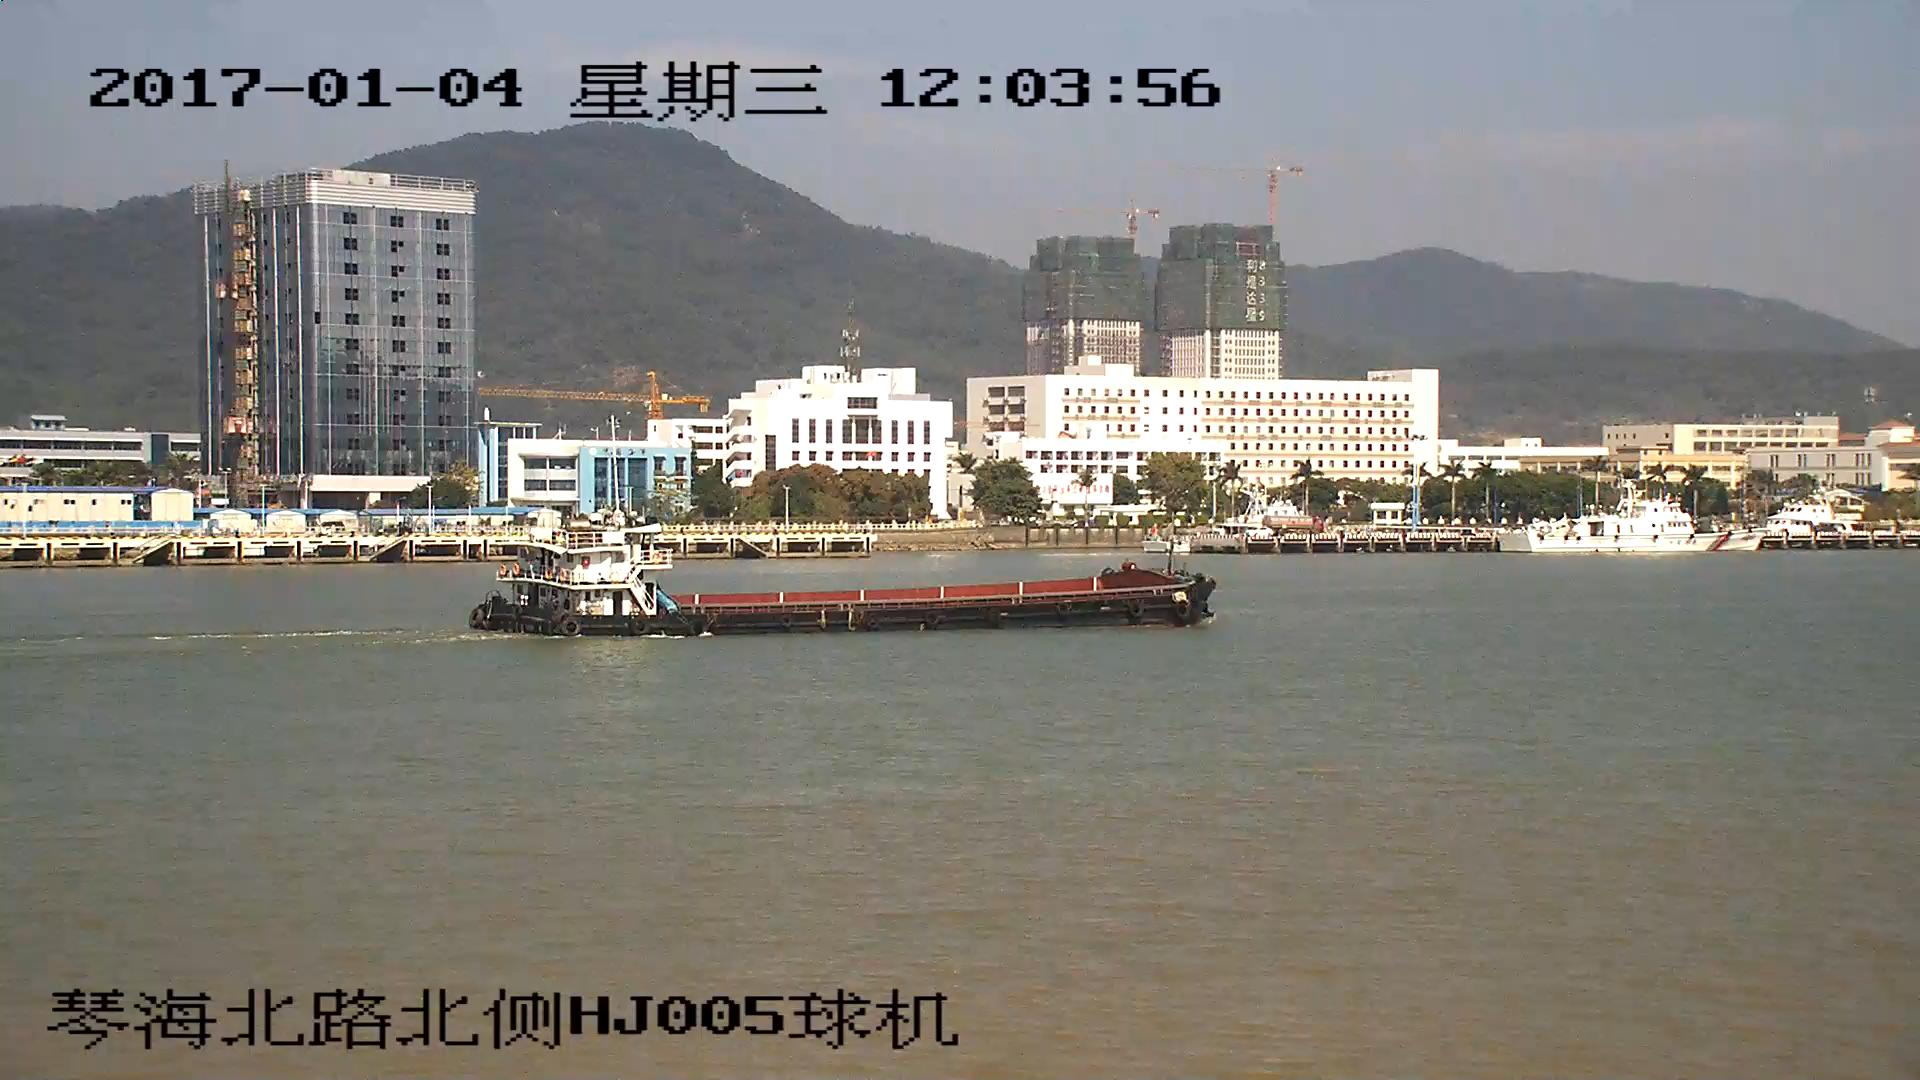general cargo ship: (469, 528, 1217, 637)
